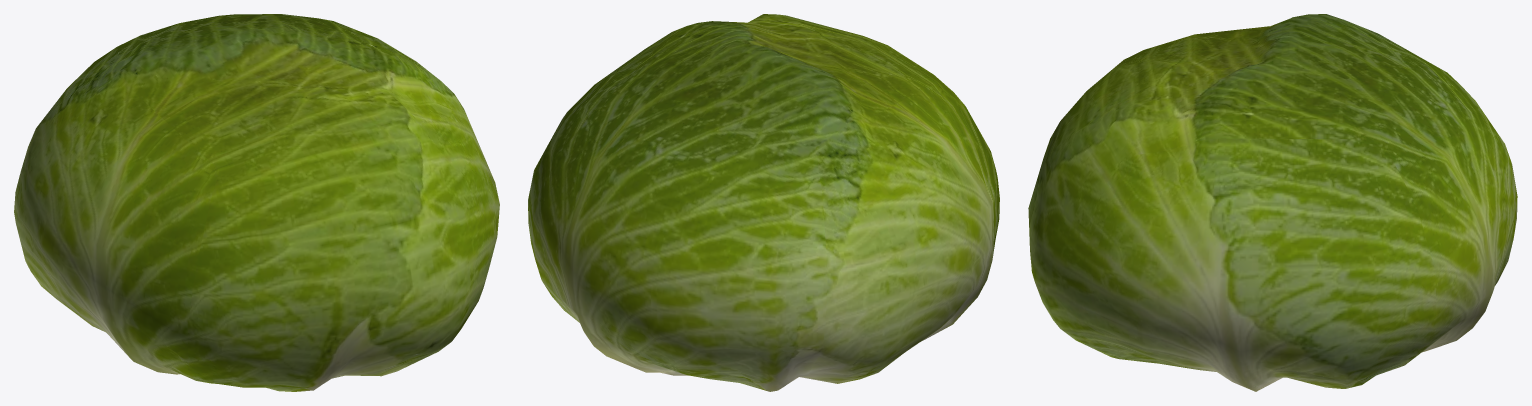
The model's file is cabbage.4e7c758f7b.glb.
The picture shows the model from 3 angles, left to right: view 1: azimuth 30°, elevation 25°; view 2: azimuth 150°, elevation 25°; view 3: azimuth 270°, elevation 25°; orthographic projection.
Visible parts, largest first — view 1: cabbage; view 2: cabbage; view 3: cabbage.
Boxes of the visible parts, bbox=[...] form: cabbage: bbox=[14, 14, 499, 391]; cabbage: bbox=[528, 14, 999, 391]; cabbage: bbox=[1028, 14, 1517, 391].
Bounding box in the file's own units: 0.3283 × 0.2368 × 0.34.
Materials: 1 (1 with a texture image).
